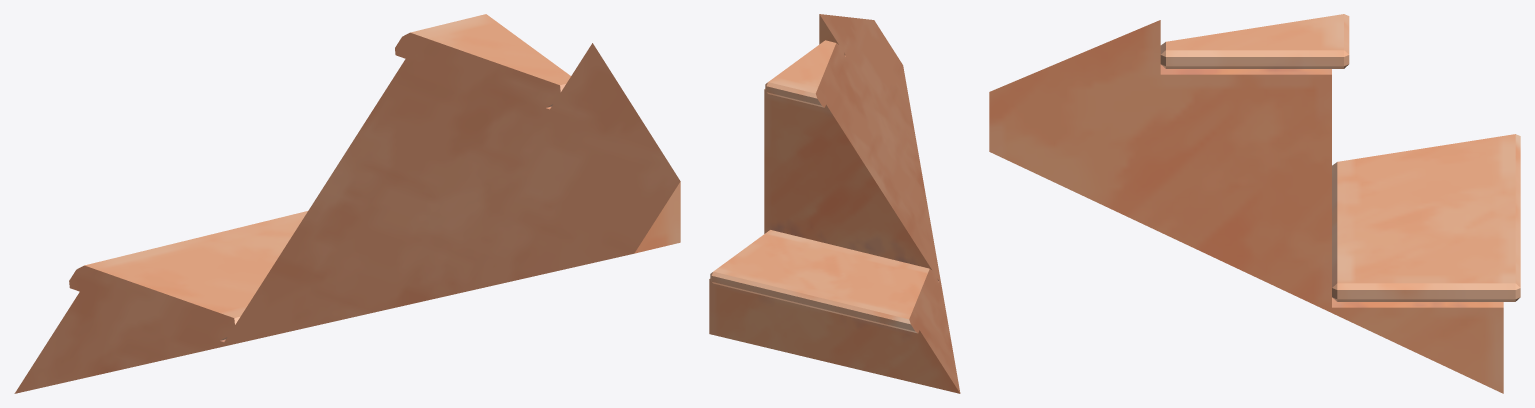
The model's file is stairs_narrow_s01.fbx.
The picture shows the model from 3 angles, left to right: view 1: azimuth 30°, elevation 25°; view 2: azimuth 150°, elevation 25°; view 3: azimuth 270°, elevation 25°; orthographic projection. The views are drawn at different scales.
Parts seen in each view (by area): view 1: stairs_narrow_s01; view 2: stairs_narrow_s01; view 3: stairs_narrow_s01.
Part boxes in pixels (x1,y1,x2,y2): stairs_narrow_s01: (14,14,680,393); stairs_narrow_s01: (709,14,960,393); stairs_narrow_s01: (989,14,1520,393).
Bounding box in the file's own units: 2.64 × 2.41 × 3.1.
